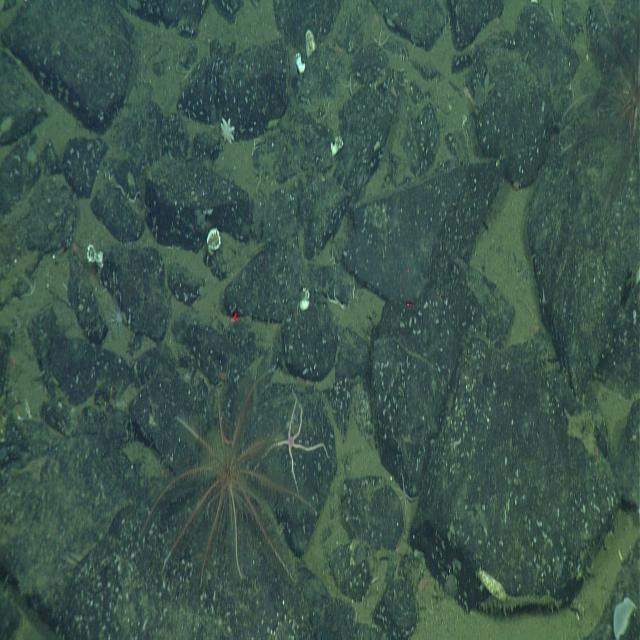Brittle Star: (391, 465, 421, 517)
